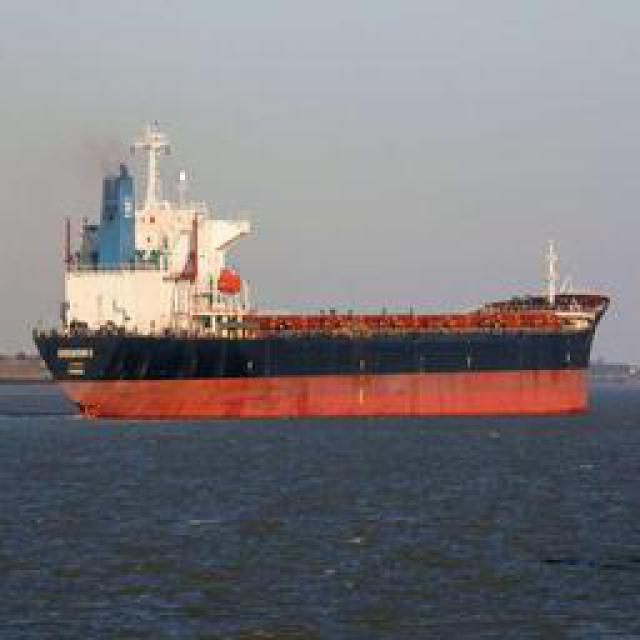Ship: (51, 296, 611, 379)
